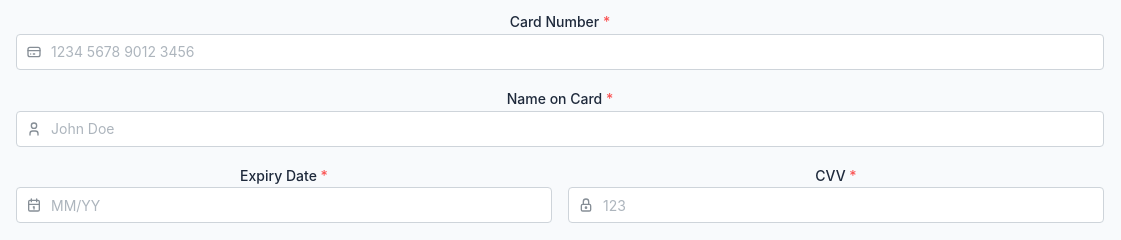
PaymentInfoSection › should prevent typing non-numeric characters in card number
Type "4111abc1111" into the field labelled "Card Number *". click: (560, 52)
box: [16,34,1104,70]
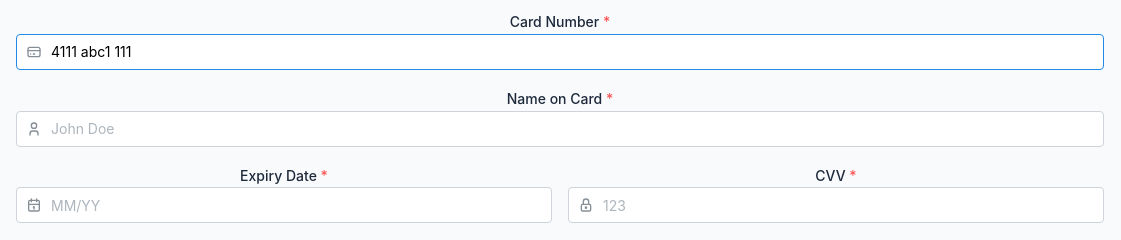
Result: the field labelled "Card Number *" holds "4111 abc1 111" at [16,34,1104,70]
